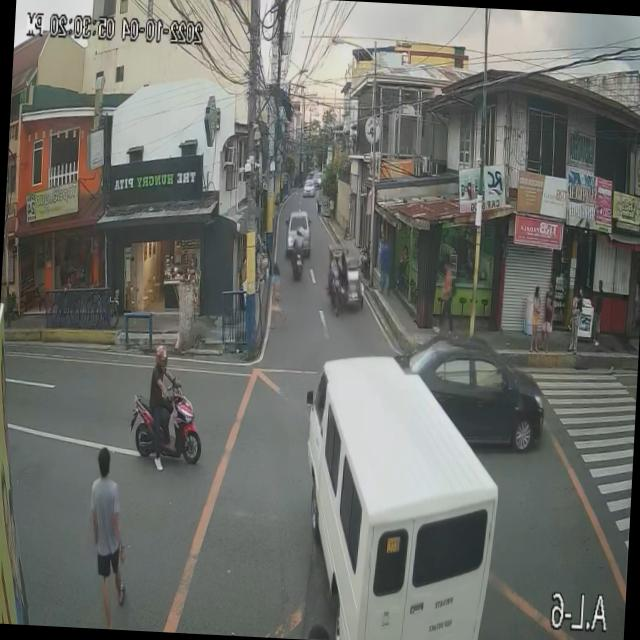full: (152, 341, 170, 375)
